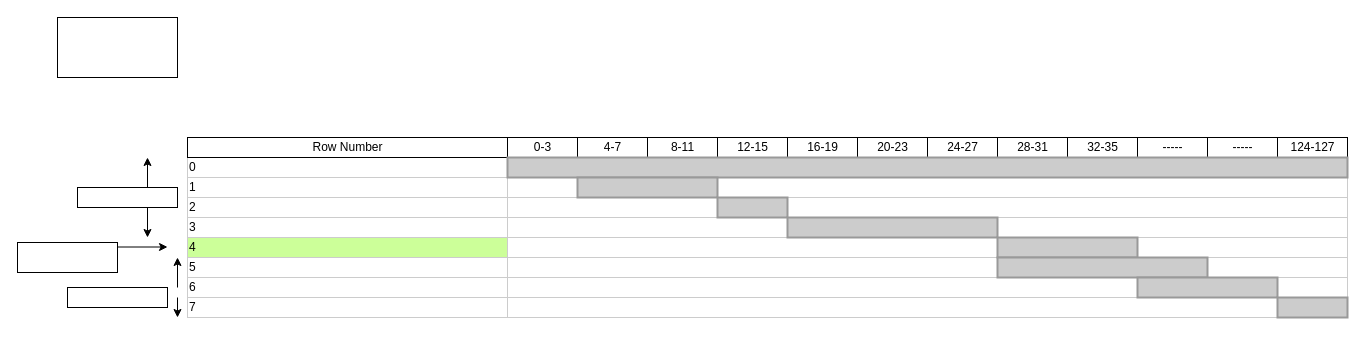
The diagram is 1366 pixels wide and 343 high, and some of its shapes have lost their labels. The centre of each missing label's shape, as x and y in pixels:
"3 rows after" goes at point 117,297.
"4 rows before" goes at point 127,197.
"Row No: by 4 DBC = DBC no" goes at point 117,47.
"row written at" goes at point 67,257.
